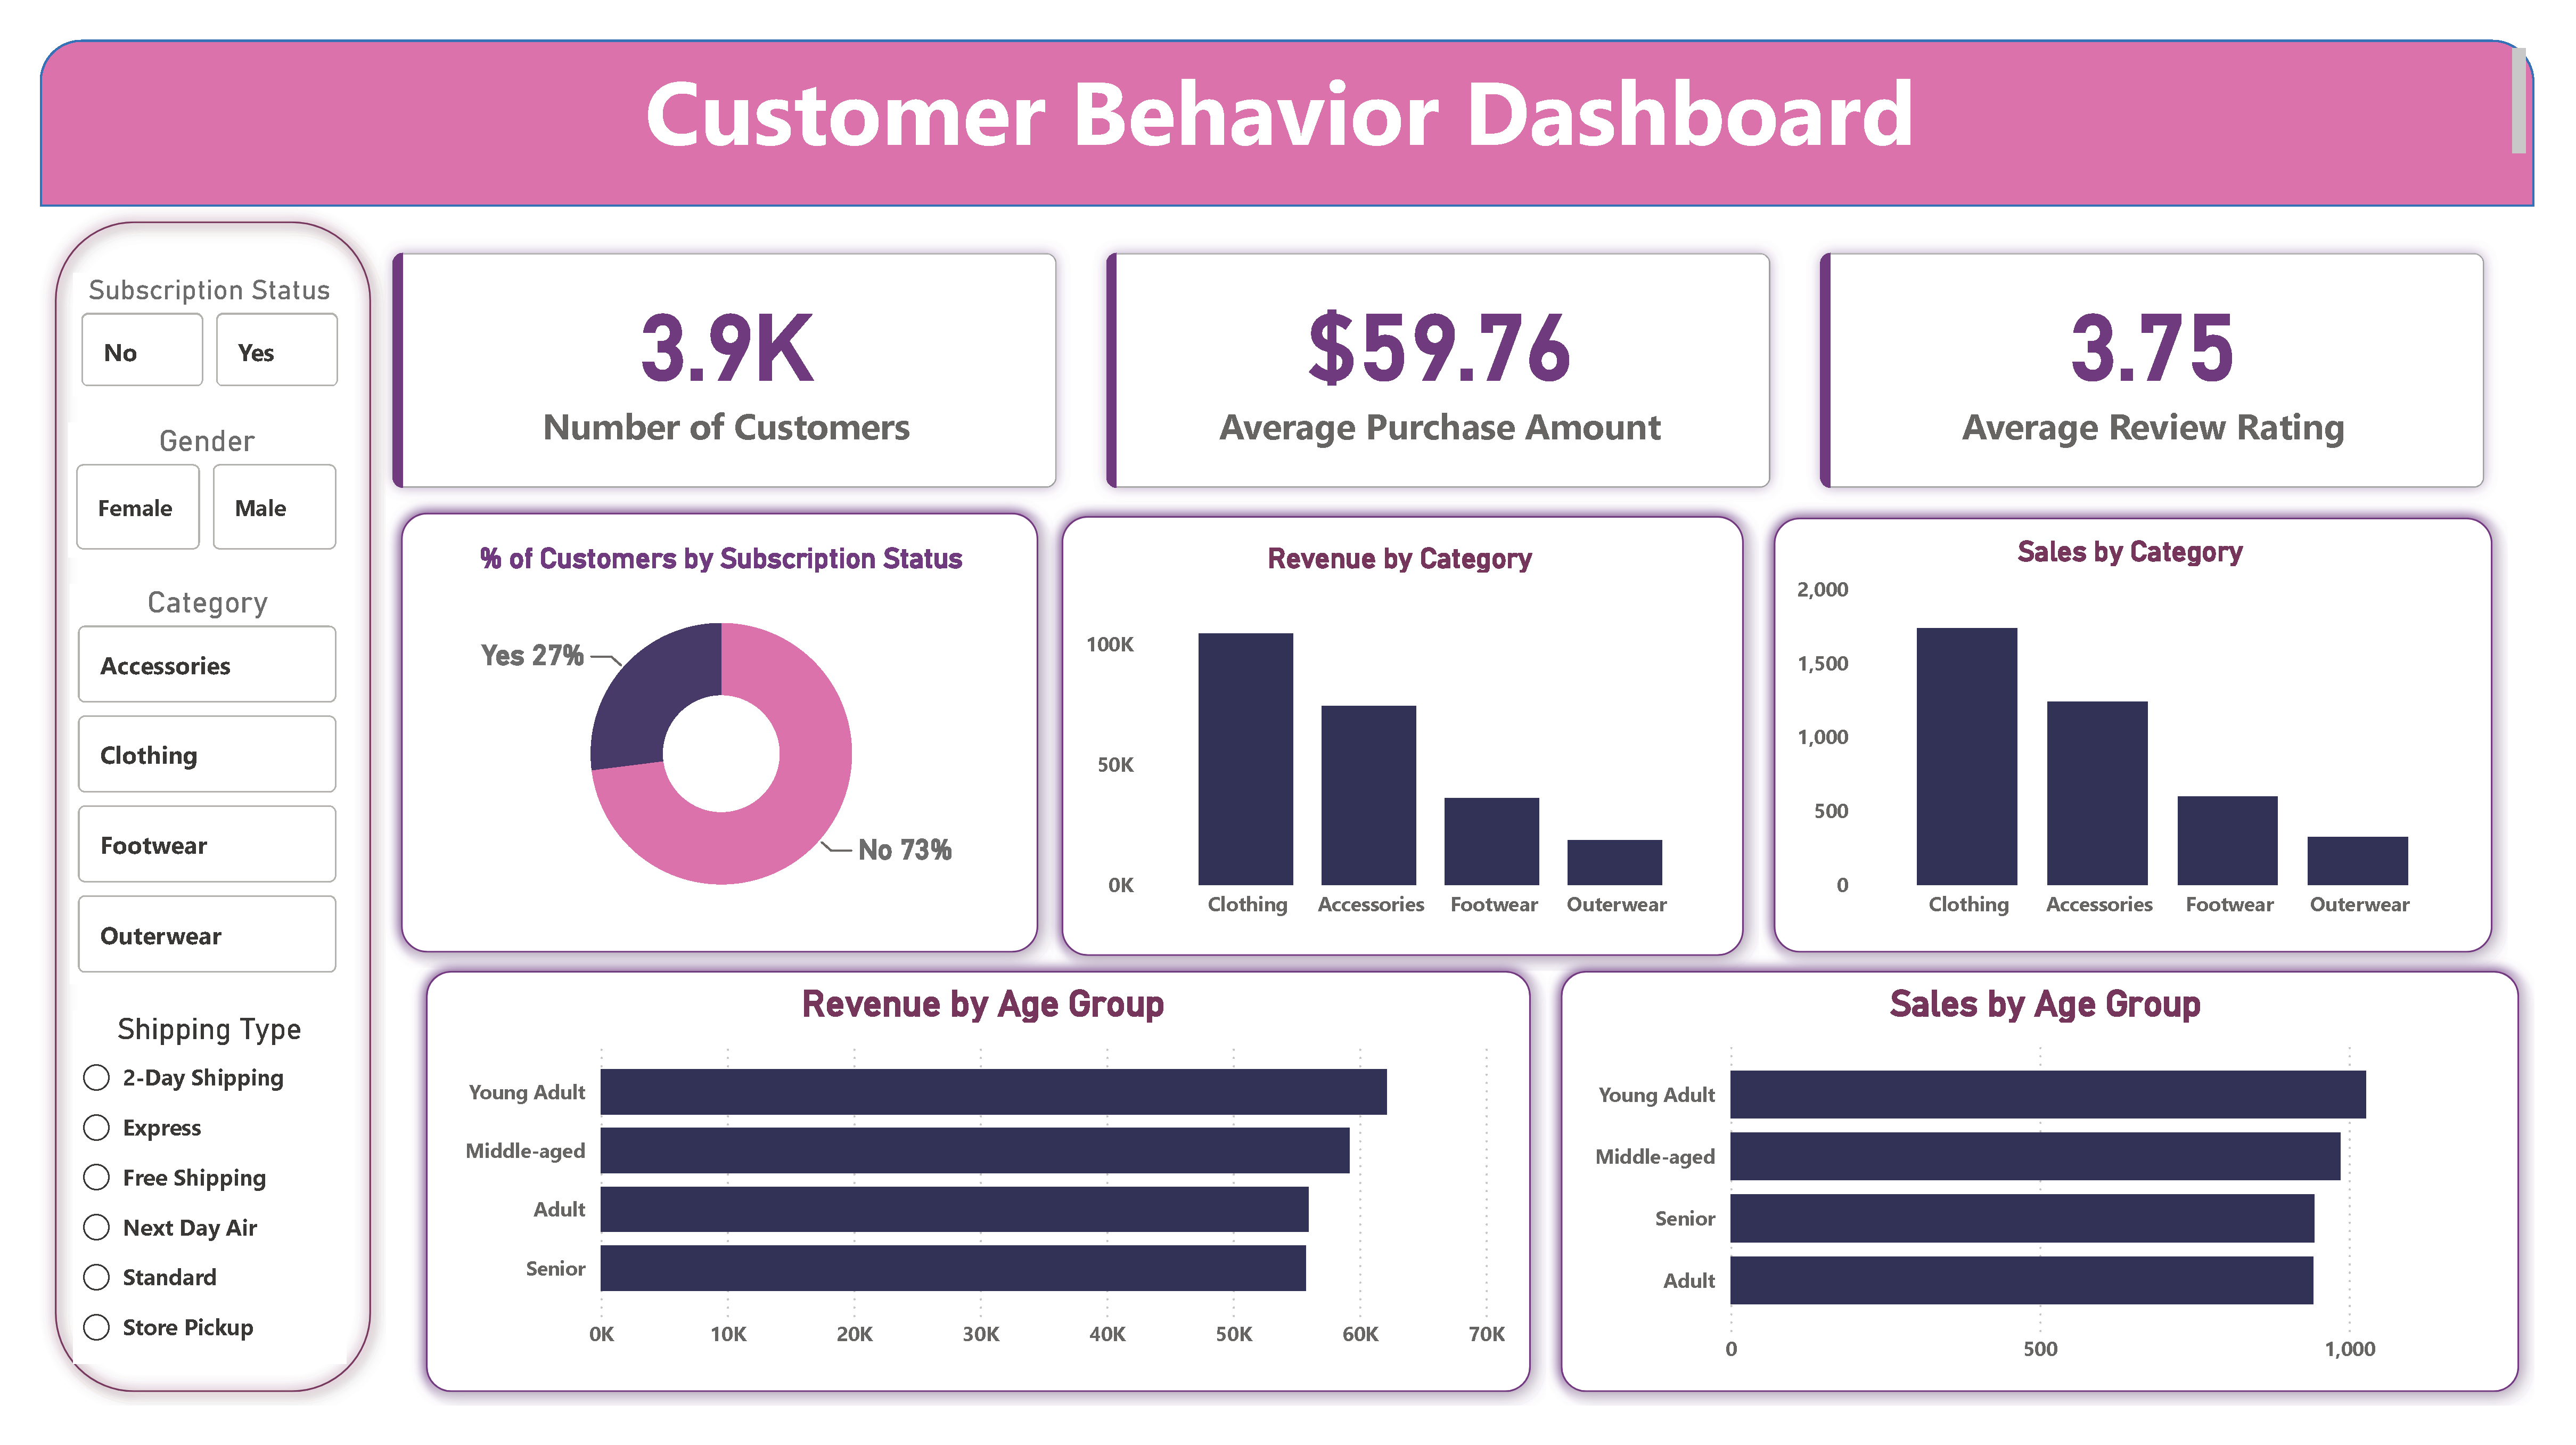

What the dashboard file says about the page in this screenshot:
{"tool":"powerbi","page":{"name":"Page 1","canvas":[1500,820],"ordinal":0},"visuals":[{"type":"shape","box":[905.5,549.5,593.8,271.1],"z":0},{"type":"cardVisual","fields":{"Data":["public customer_behavior.Number of Customers","public customer_behavior.Average Purchase Amount","public customer_behavior.Average Review Rating"]},"box":[184.4,99.6,1314.9,197.3],"z":1000},{"type":"shape","box":[0,0,1499.3,99.6],"z":2000},{"type":"textbox","box":[0,0,1499.3,77.5],"z":3000},{"type":"shape","box":[1032.7,278.5,450,278.5],"z":4000},{"type":"shape","box":[604.9,276.6,427.8,282.2],"z":5000},{"type":"shape","box":[208.4,274.8,400.2,282.2],"z":6000},{"type":"donutChart","title":"% of Customers by Subscription Status","fields":{"Category":["public customer_behavior.subscription_status"],"Y":["CountNonNull(public customer_behavior.customer_id)"]},"box":[230.5,300.6,357.8,237.9],"z":7000},{"type":"clusteredColumnChart","title":"Revenue by Category","fields":{"Y":["Sum(public customer_behavior.purchase_amount)"],"Category":["public customer_behavior.category"]},"box":[623.3,300.6,389.1,237.9],"z":8000},{"type":"clusteredColumnChart","title":"Sales by Category","fields":{"Y":["CountNonNull(public customer_behavior.customer_id)"],"Category":["public customer_behavior.category"]},"box":[1051.1,296.9,411.2,241.6],"z":9000},{"type":"shape","box":[0,99.6,208.4,721.1],"z":10000},{"type":"advancedSlicerVisual","title":"Subscription Status","fields":{"Values":["public customer_behavior.subscription_status"]},"box":[20.3,140.2,164.1,73.8],"z":11000},{"type":"advancedSlicerVisual","title":"Gender","fields":{"Values":["public customer_behavior.gender"]},"box":[16.6,229.9,167.8,81.1],"z":12000},{"type":"advancedSlicerVisual","title":"Category","fields":{"Values":["public customer_behavior.category"]},"box":[18.4,327,166,239.7],"z":13000},{"type":"listSlicer","title":"Shipping Type","fields":{"Values":["public customer_behavior.shipping_type"]},"box":[20.3,582.7,164.1,212.1],"z":14000},{"type":"shape","box":[223.1,549.5,682.3,271.1],"z":15000},{"type":"clusteredBarChart","title":"Sales by Age Group","fields":{"Y":["CountNonNull(public customer_behavior.purchase_amount)"],"Category":["public customer_behavior.age_group"]},"box":[927.6,566.1,555.1,237.9],"z":16000},{"type":"clusteredBarChart","title":"Revenue by Age Group","fields":{"Y":["Sum(public customer_behavior.purchase_amount)"],"Category":["public customer_behavior.age_group"]},"box":[249,566.1,636.2,228.7],"z":16001}]}

Visuals, with their boxes in screenshot pixels (x1, y1, x2, y2):
shape: region(1533, 932, 2503, 1375)
cardVisual - public customer_behavior.Number of Customers x public customer_behavior.Average Purchase Amount: region(355, 197, 2503, 519)
shape: region(54, 34, 2503, 197)
textbox: region(54, 34, 2503, 160)
shape: region(1741, 488, 2476, 944)
shape: region(1042, 486, 1741, 946)
shape: region(394, 483, 1048, 944)
"% of Customers by Subscription Status" donutChart: region(430, 525, 1015, 913)
"Revenue by Category" clusteredColumnChart: region(1072, 525, 1708, 913)
"Sales by Category" clusteredColumnChart: region(1771, 519, 2442, 913)
shape: region(54, 197, 394, 1375)
"Subscription Status" advancedSlicerVisual: region(87, 263, 355, 383)
"Gender" advancedSlicerVisual: region(81, 409, 355, 542)
"Category" advancedSlicerVisual: region(84, 568, 355, 960)
"Shipping Type" listSlicer: region(87, 986, 355, 1332)
shape: region(418, 932, 1533, 1375)
"Sales by Age Group" clusteredBarChart: region(1569, 959, 2476, 1348)
"Revenue by Age Group" clusteredBarChart: region(461, 959, 1500, 1332)
